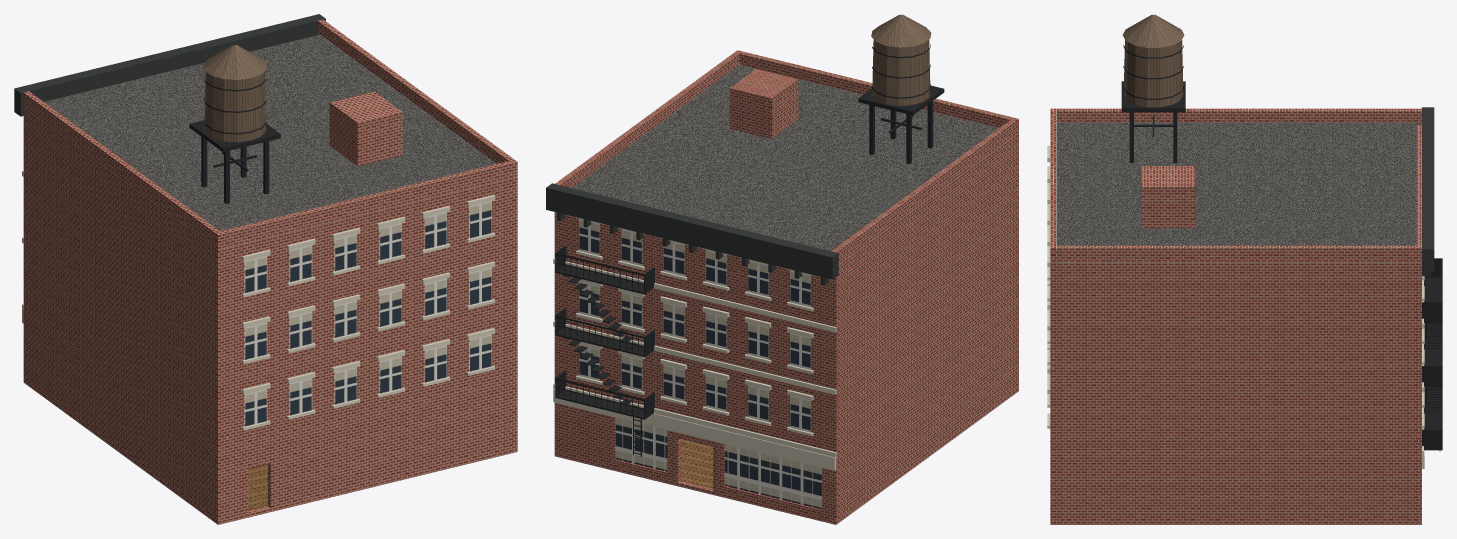
File: walkup_red_shop.glb
3 views of the same model, side by side, from view 1: azimuth 30°, elevation 25°; view 2: azimuth 150°, elevation 25°; view 3: azimuth 270°, elevation 25° (orthographic). The views are drawn at different scales.
Parts seen in each view (by area): view 1: walkup_red_shop; view 2: walkup_red_shop; view 3: walkup_red_shop.
Part boxes in pixels (x1,y1,x2,y2): walkup_red_shop: (14, 14, 517, 524); walkup_red_shop: (546, 14, 1018, 524); walkup_red_shop: (1047, 14, 1442, 524).
Size of the model in its own units: 16.3 by 21.6 by 19.14.
Materials: 13 (13 with a texture image).
